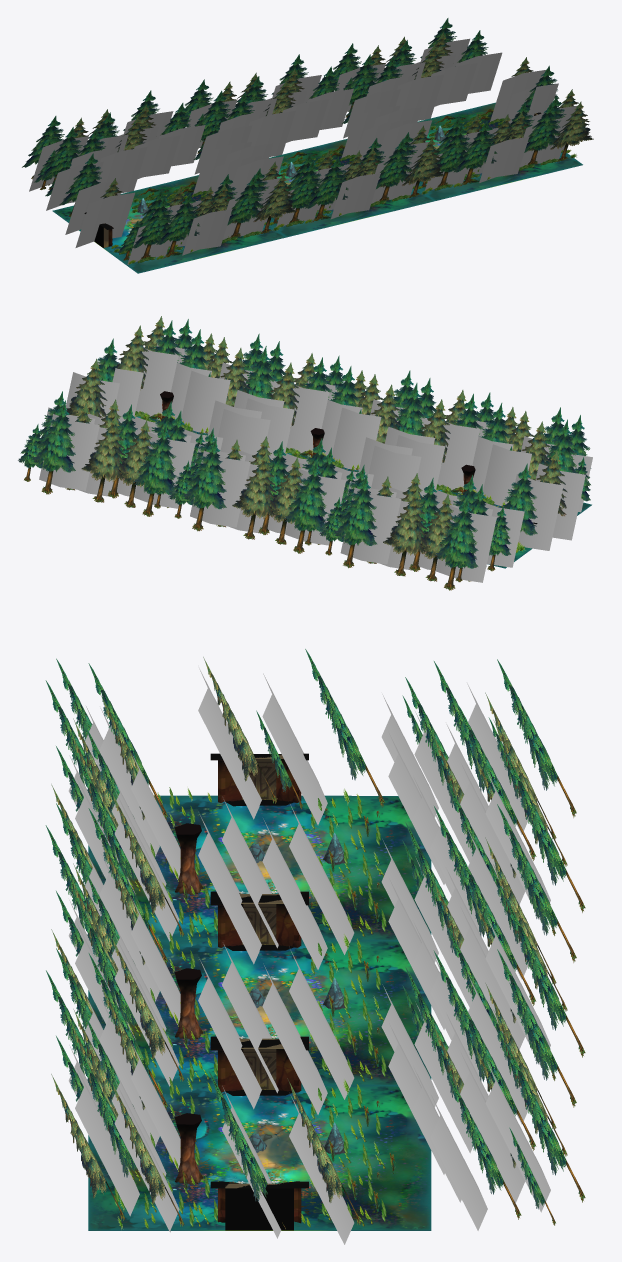
3 renders of one model, top to bottom at view 1: azimuth 30°, elevation 25°; view 2: azimuth 150°, elevation 25°; view 3: azimuth 270°, elevation 25°, orthographic. The views are drawn at different scales.
Parts seen in each view (by area): view 1: FieldArea_02_001_tree_2 (×3), FieldArea_02_002_tree_1_AA (×3), FieldArea_02_002_tree_1_BB (×3), FieldArea_02_001_tree_1 (×3), FieldArea_02_001_ground2 (×3), FieldDungeon_02_001_Door_Right_001 (×3), FieldDungeon_02_001_Door_Left_001 (×3), FieldArea_02_001_kusa (×3), FieldDungeon_02_002_Door_Right_001, FieldDungeon_02_002_Door_Left_001, FieldDungeon_02_001_Door_Right_001_shadow; view 2: FieldArea_02_002_tree_1_BB (×3), FieldArea_02_002_tree_1_AA (×3), FieldArea_02_001_tree_2 (×3), FieldArea_02_001_tree_1 (×3), FieldDungeon_02_001_Door_Left_001 (×3), FieldDungeon_02_001_Door_Right_001 (×3), FieldDungeon_02_002_Door_Right_001, FieldDungeon_02_002_Door_Left_001; view 3: FieldArea_02_001_ground2 (×3), FieldArea_02_001_tree_2 (×3), FieldArea_02_002_tree_1_BB (×3), FieldArea_02_002_tree_1_AA (×3), FieldArea_02_001_tree_1 (×3), FieldDungeon_02_001_Door_Right_001 (×3), FieldDungeon_02_001_Door_Right_001_shadow (×3), FieldDungeon_02_001_Door_Left_001 (×3), FieldArea_02_001_kusa (×3), Dun_011_Door_002_old (×4), FieldDungeon_02_001_Door_Left_001_shadow (×3), Dungeon_011_Object_010 (×3) (+4 smaller).
Boxes of the visible parts, x1,y1,x2,y2 form: FieldArea_02_001_tree_2 (×3): (29, 38, 502, 210); FieldArea_02_002_tree_1_AA (×3): (117, 89, 593, 260); FieldArea_02_002_tree_1_BB (×3): (22, 18, 488, 196); FieldArea_02_001_tree_1 (×3): (127, 105, 577, 264); FieldArea_02_001_ground2 (×3): (52, 102, 582, 273); FieldDungeon_02_001_Door_Right_001 (×3): (65, 107, 432, 247); FieldDungeon_02_001_Door_Left_001 (×3): (192, 69, 558, 197); FieldArea_02_001_kusa (×3): (111, 109, 576, 264); FieldDungeon_02_002_Door_Right_001: (59, 153, 122, 217); FieldDungeon_02_002_Door_Left_001: (511, 57, 559, 112); FieldDungeon_02_001_Door_Right_001_shadow: (79, 227, 132, 262); FieldArea_02_002_tree_1_BB (×3): (18, 391, 511, 590); FieldArea_02_002_tree_1_AA (×3): (116, 316, 591, 501); FieldArea_02_001_tree_2 (×3): (39, 407, 524, 582); FieldArea_02_001_tree_1 (×3): (135, 343, 592, 512); FieldDungeon_02_001_Door_Left_001 (×3): (66, 362, 445, 495); FieldDungeon_02_001_Door_Right_001 (×3): (208, 390, 585, 550); FieldDungeon_02_002_Door_Right_001: (501, 450, 567, 535); FieldDungeon_02_002_Door_Left_001: (66, 338, 119, 417); FieldArea_02_001_ground2 (×3): (88, 796, 431, 1230); FieldArea_02_001_tree_2 (×3): (381, 683, 550, 1230); FieldArea_02_002_tree_1_BB (×3): (402, 659, 585, 1225); FieldArea_02_002_tree_1_AA (×3): (45, 658, 184, 1226); FieldArea_02_001_tree_1 (×3): (68, 706, 180, 1232); FieldDungeon_02_001_Door_Right_001 (×3): (198, 668, 327, 1114); FieldDungeon_02_001_Door_Right_001_shadow (×3): (154, 795, 351, 1133); FieldDungeon_02_001_Door_Left_001 (×3): (222, 799, 354, 1244); FieldArea_02_001_kusa (×3): (114, 787, 395, 1229); Dun_011_Door_002_old (×4): (210, 753, 308, 1230); FieldDungeon_02_001_Door_Left_001_shadow (×3): (172, 902, 357, 1230); Dungeon_011_Object_010 (×3): (174, 823, 203, 1184).
Size of what is drawn, in the model's own units: 48.94 by 7.89 by 24.06.
